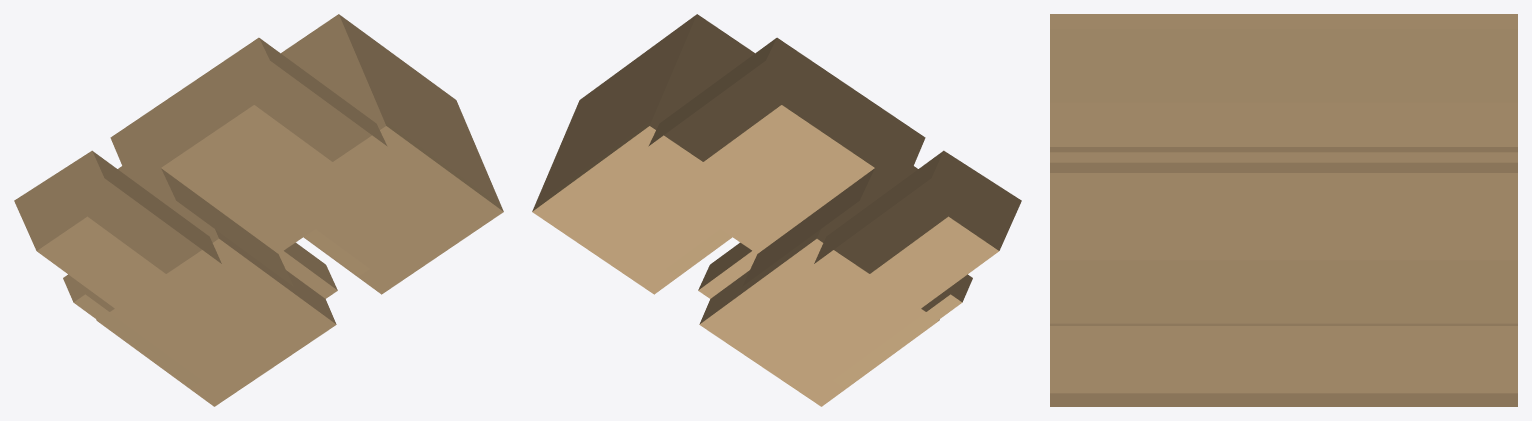
3 views of the same model, side by side, from view 1: azimuth 30°, elevation 25°; view 2: azimuth 150°, elevation 25°; view 3: azimuth 270°, elevation 25° (orthographic). The views are drawn at different scales.
Visible parts, largest first — view 1: 0_1_3_2_1_2_0_1_2; view 2: 0_1_3_2_1_2_0_1_2; view 3: 0_1_3_2_1_2_0_1_2.
Boxes of the visible parts, <box> form: 0_1_3_2_1_2_0_1_2: <box>14,14,503,406</box>; 0_1_3_2_1_2_0_1_2: <box>532,14,1021,406</box>; 0_1_3_2_1_2_0_1_2: <box>1050,14,1517,406</box>.
Size of the model in its own units: 43.85 by 27.9 by 24.
